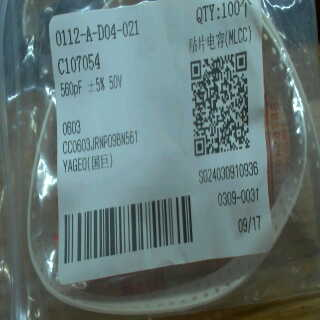560pF: (57, 79, 85, 98)
